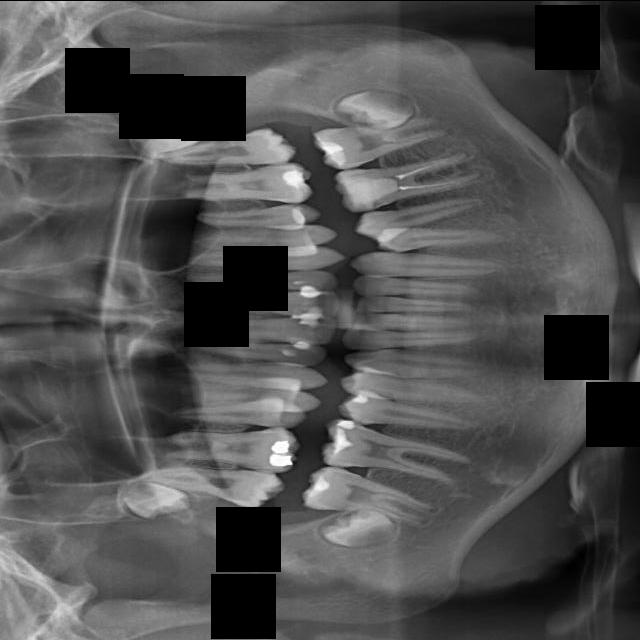3M ESPE Implant: (112, 473, 193, 528)
AGS Medikal Implant: (311, 112, 459, 172)
AMerOss Implant: (331, 146, 486, 215)
Amalgam filling: (162, 476, 192, 479)
Anthogyr Implant: (350, 177, 490, 243)
Bicon Implant: (375, 226, 505, 250)
BioHorizons Implant: (349, 249, 505, 282)
BioLife Implant: (352, 276, 481, 299)
Biomet 3i Implant: (353, 295, 476, 312)
Blue Sky Bio Implant: (347, 311, 469, 331)
Camlog Implant: (339, 328, 479, 353)
Caries: (184, 270, 340, 291)
Composite filling: (341, 343, 494, 384)
Cowellmedi Implant: (338, 368, 489, 411)
Crown: (335, 389, 482, 448)
DENTSPLY Implant: (161, 421, 301, 472)
Dentatus Implant: (317, 416, 477, 489)
Dentis Implant: (299, 461, 440, 527)
Dentium Implant: (316, 504, 398, 552)
Euroteknika Implant: (173, 403, 308, 428)
Filling: (179, 382, 321, 411)
Frontier Implant: (159, 355, 329, 390)
Hiossen Implant: (185, 244, 345, 273)
Implant: (175, 307, 338, 346)
Implant Direct: (172, 328, 328, 368)
Keystone Dental Implant: (188, 290, 343, 320)
MIS Implant: (196, 224, 338, 249)
Mandible: (194, 200, 322, 231)
Maxilla: (178, 160, 313, 204)
Megagen Implant: (158, 121, 299, 185)
Neodent Implant: (127, 104, 204, 161)
Neoss Implant: (333, 87, 416, 124)
